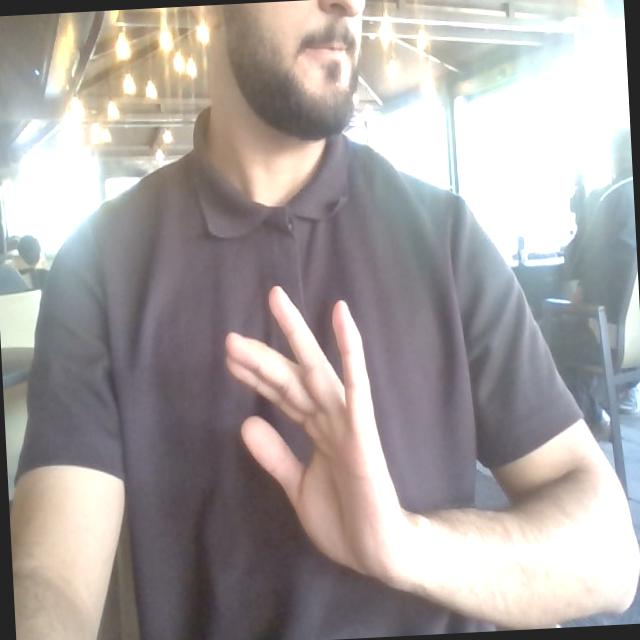Hand: (226, 288, 409, 583)
